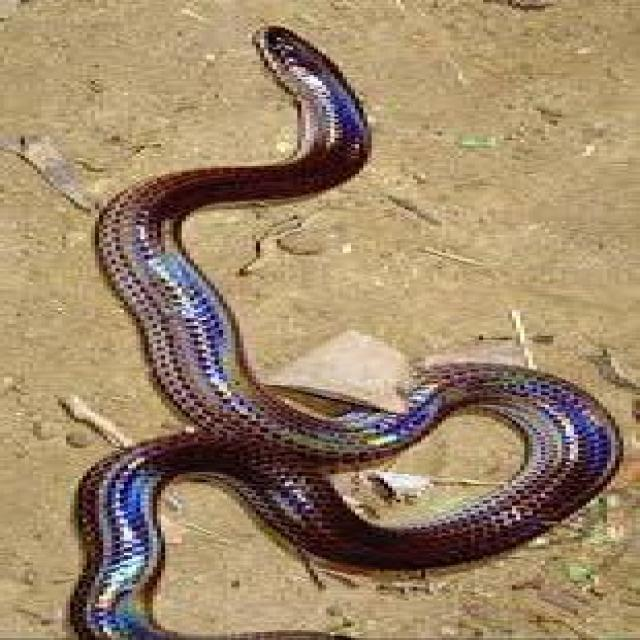Non-Venomous: (226, 21, 406, 226)
